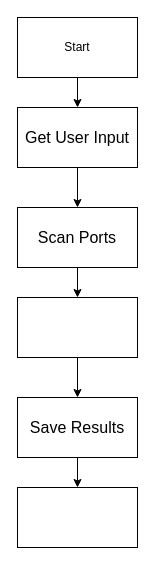
Image size: 155x565. Some labels were removed from this diagram. The shapes that lost their labels are listed below. From the top down, each one's centre as x and y in pixels, then its label:
At point 77,327: "Filter Open Ports".
At point 77,517: "End".
